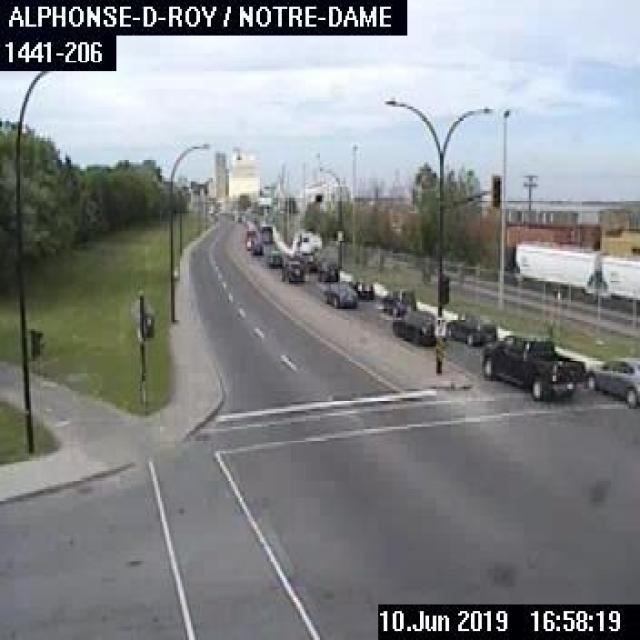vehicle: (475, 328, 588, 406), (585, 352, 638, 409), (443, 307, 499, 346), (389, 306, 435, 346), (381, 283, 420, 315), (320, 279, 357, 310), (280, 255, 306, 283), (348, 275, 374, 303), (265, 248, 283, 266)
